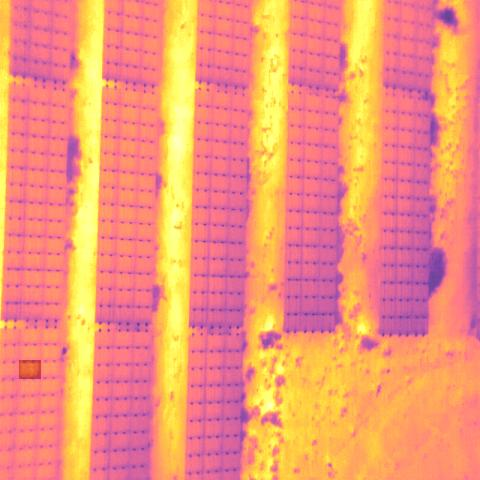fault: (19, 360, 42, 379)
